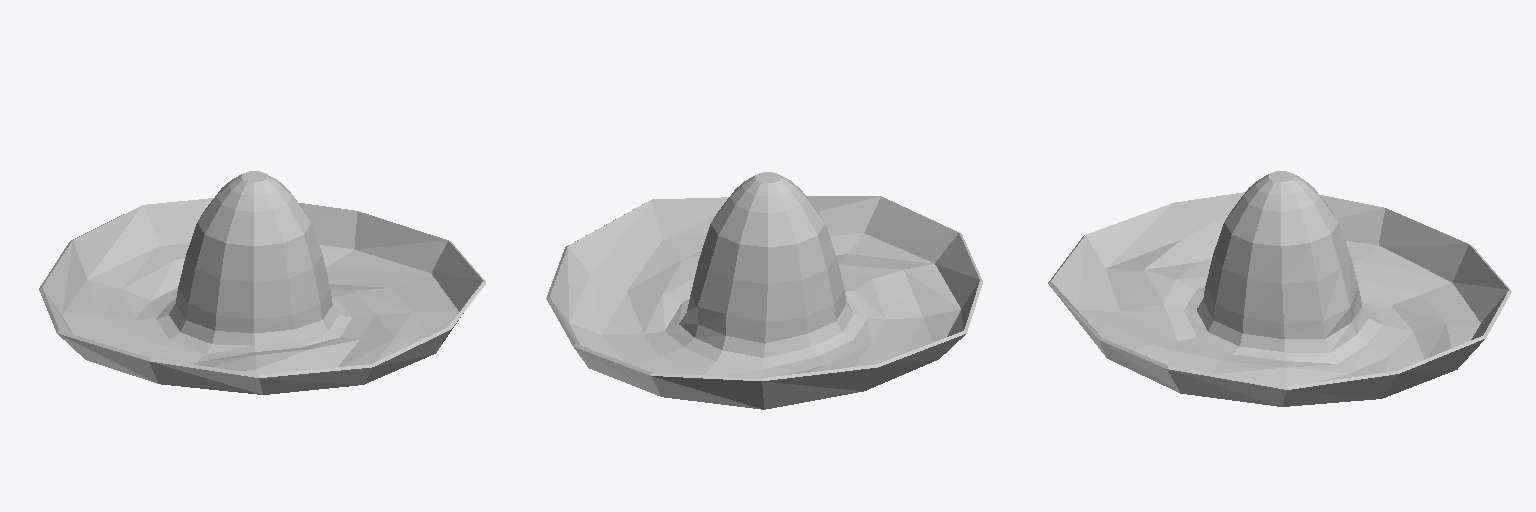
Rendered from Hat.obj.
3 renders of one model, left to right at view 1: azimuth 30°, elevation 25°; view 2: azimuth 150°, elevation 25°; view 3: azimuth 270°, elevation 25°, orthographic.
Visible parts, largest first — view 1: Circle; view 2: Circle; view 3: Circle.
Part boxes in pixels (bbox=[...]): Circle: bbox=[39, 171, 485, 394]; Circle: bbox=[546, 172, 982, 409]; Circle: bbox=[1048, 171, 1511, 406].
Size of the model in its own units: 2.29 by 0.8696 by 2.31.